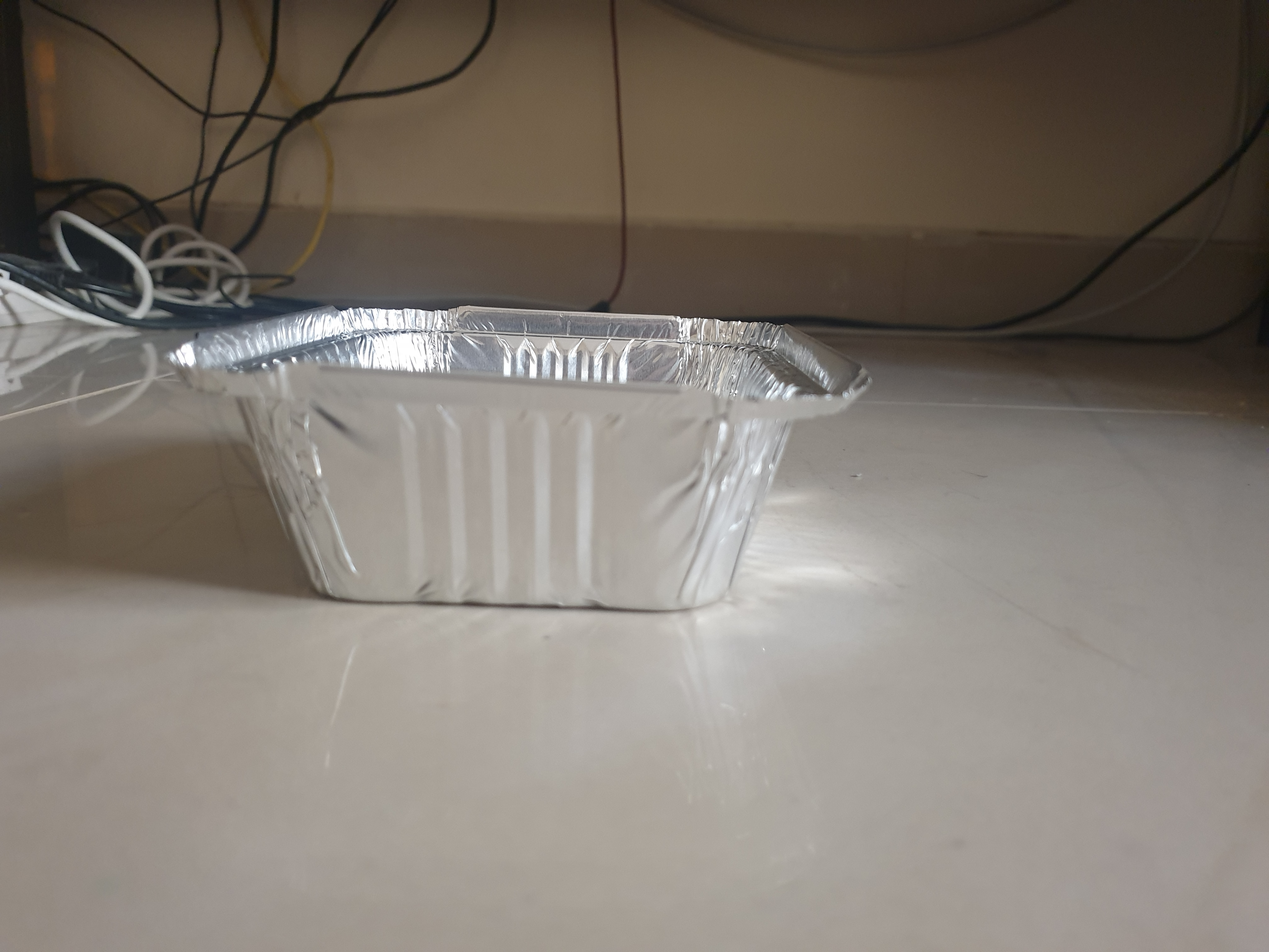Metal: (160, 292, 880, 619)
